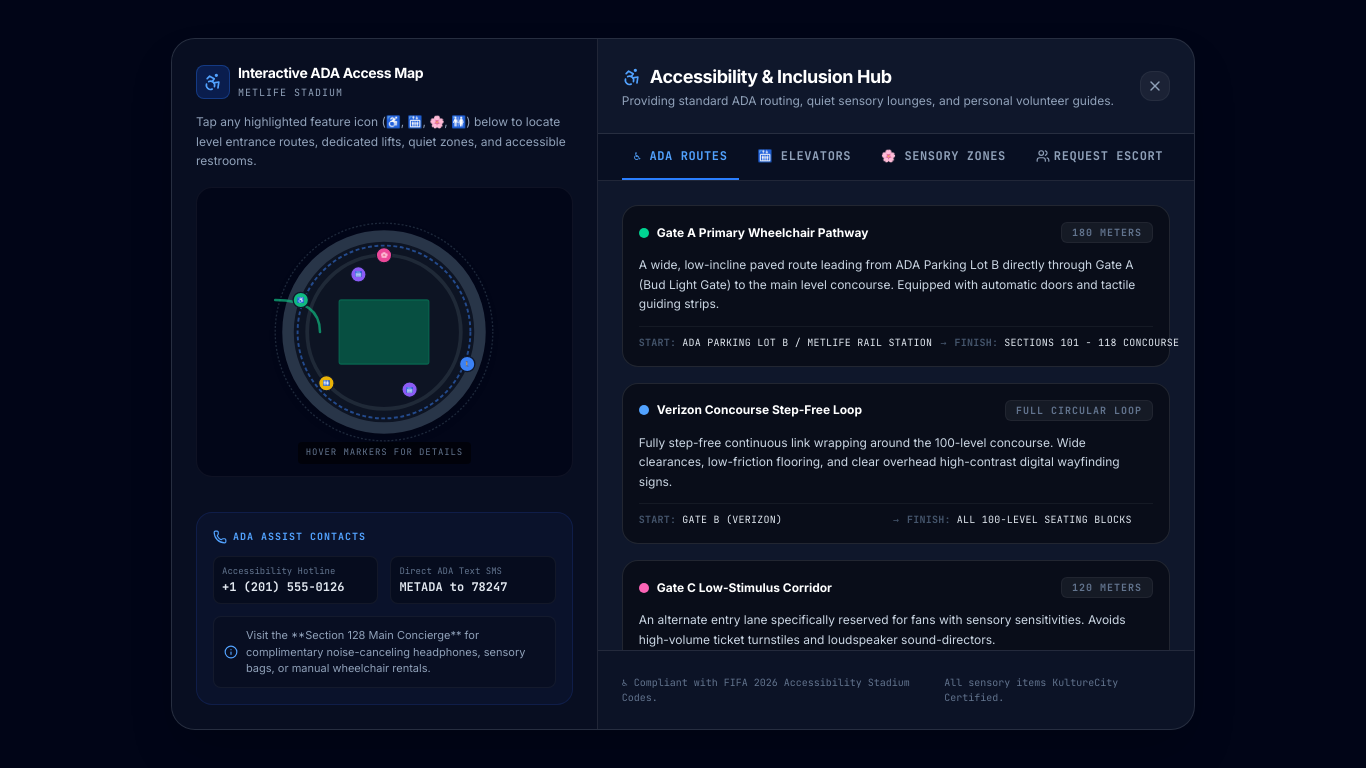
Test: AccessibilityOverlay Component Tests › can switch to other tabs
Check: the heading "Gate A Primary Wheelchair Pathway" is shown, box x1=657 y1=225 x2=868 y2=241
# Click on Elevators tab
Step 1. Click the button "🛗 Elevators" → (804, 157), box x1=746 y1=134 x2=863 y2=180
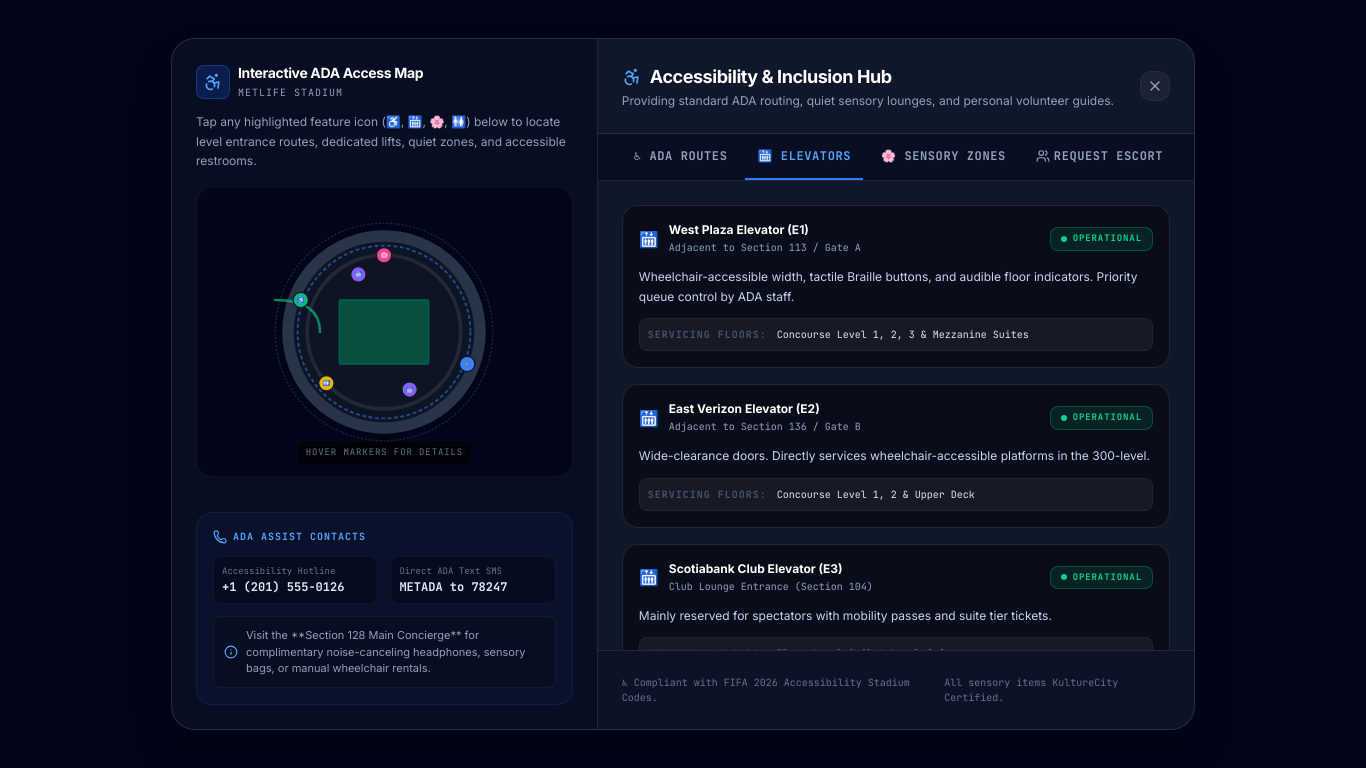
Check: the heading "West Plaza Elevator (E1)" is shown, box x1=669 y1=222 x2=809 y2=237
# Click on Sensory Zones tab
Step 2. Click the button "🌸 Sensory Zones" → (943, 157), box x1=869 y1=134 x2=1018 y2=180
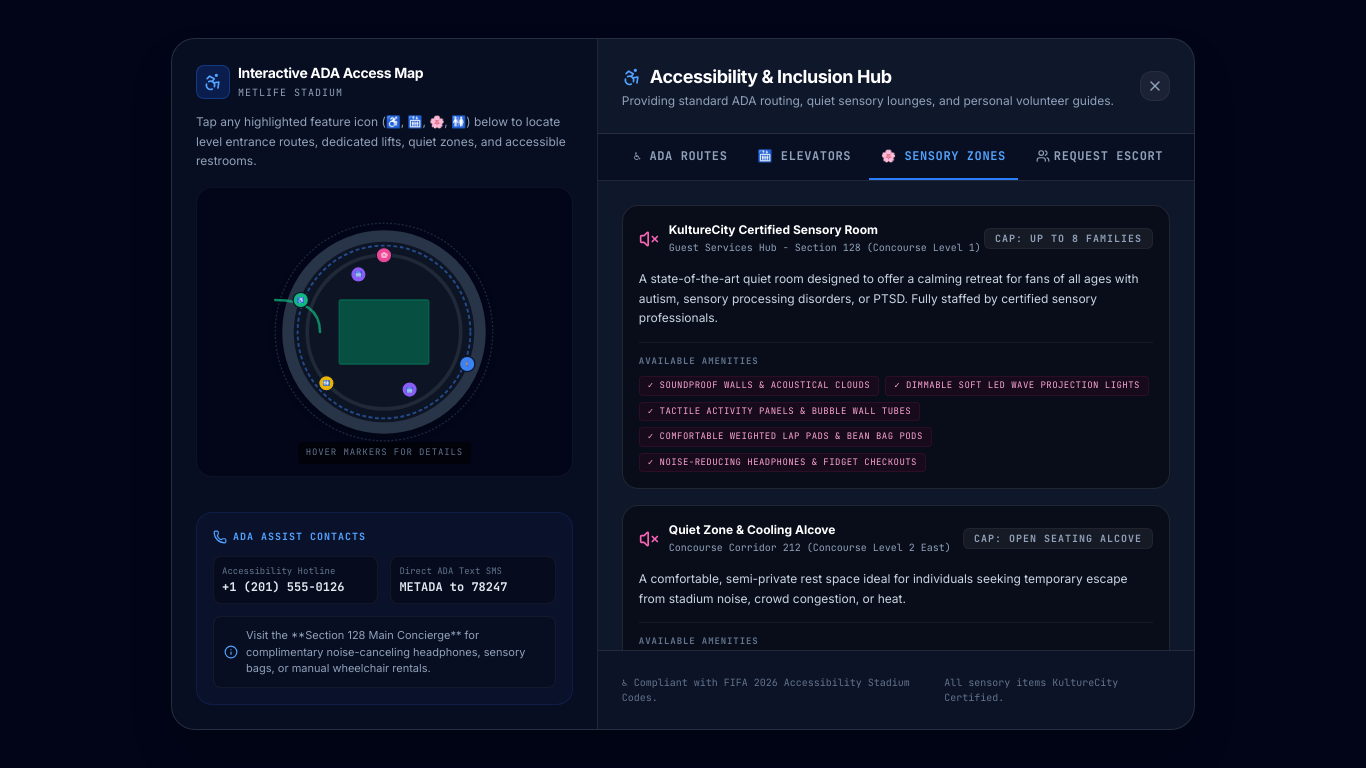
Check: the heading "KultureCity Certified Sensory Room" is shown, box x1=669 y1=222 x2=878 y2=237
